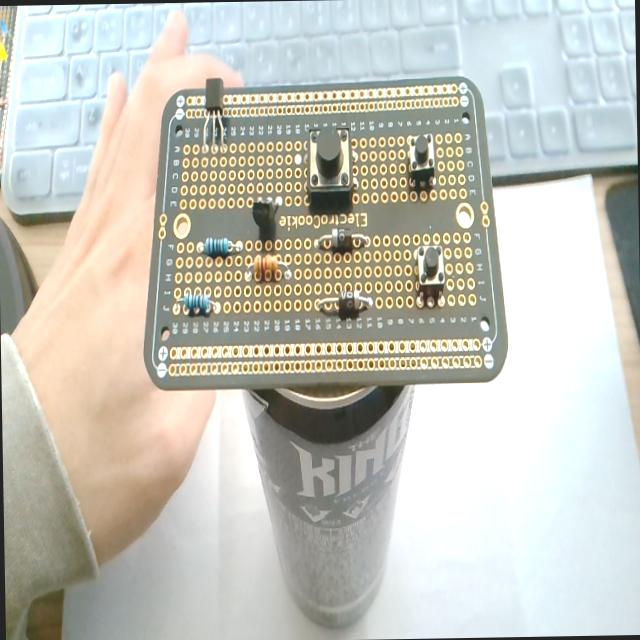diode: (316, 290, 373, 318), (314, 225, 370, 252)
resistor: (245, 251, 291, 284), (195, 235, 240, 255), (184, 290, 212, 316)
switch: (307, 126, 354, 210), (414, 244, 446, 306), (407, 133, 436, 190)
transistor: (202, 76, 228, 152), (250, 192, 282, 245)
